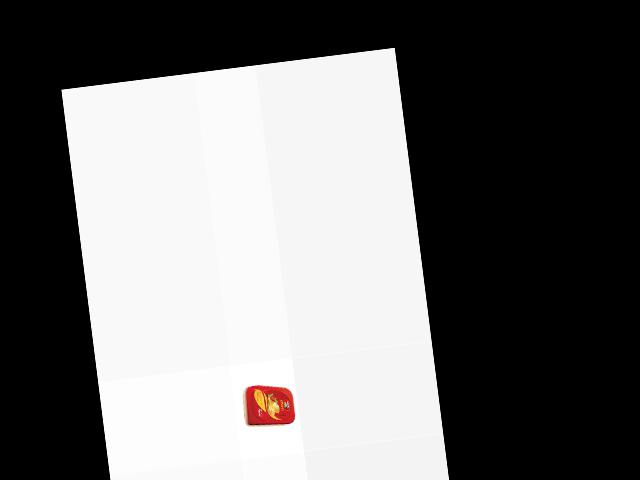cheese: (240, 380, 299, 430)
